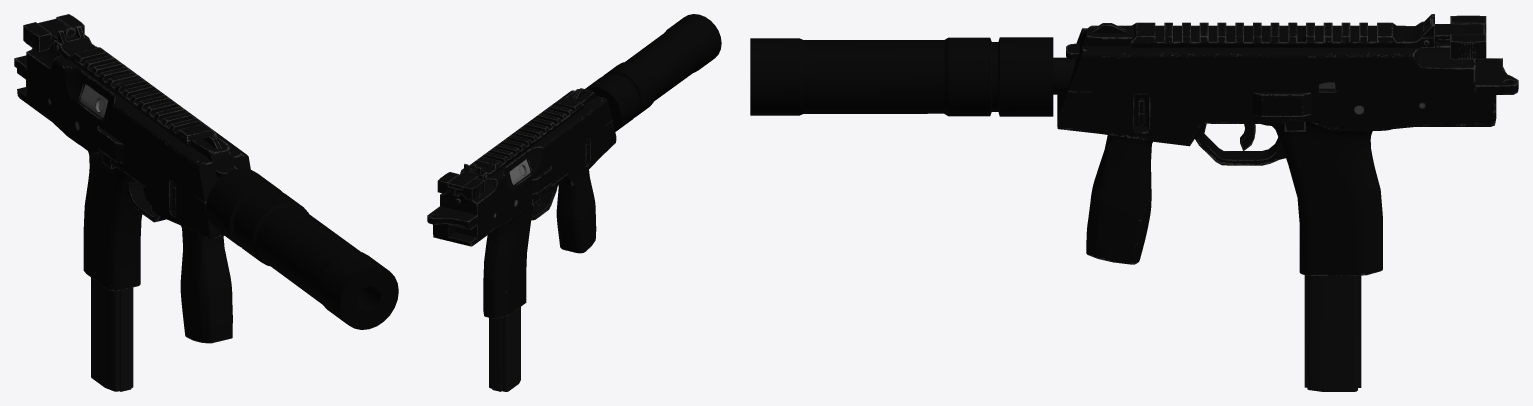
File: mp9_static.fbx
3 renders of one model, left to right at view 1: azimuth 30°, elevation 25°; view 2: azimuth 150°, elevation 25°; view 3: azimuth 270°, elevation 25°, orthographic. The views are drawn at different scales.
Parts seen in each view (by area): view 1: MP9_lowpoly; view 2: MP9_lowpoly; view 3: MP9_lowpoly.
Part boxes in pixels (x1,y1,x2,y2): MP9_lowpoly: [14, 14, 398, 391]; MP9_lowpoly: [427, 14, 721, 391]; MP9_lowpoly: [750, 14, 1518, 391].
Bounding box in the file's own units: 40.58 × 207 × 392.
